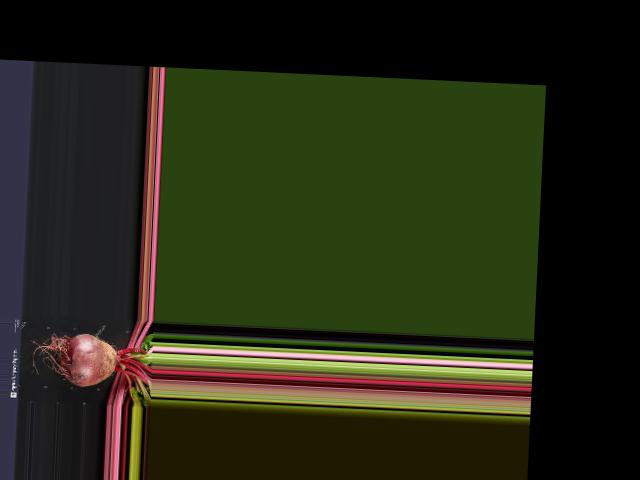beet: (25, 330, 153, 407)
